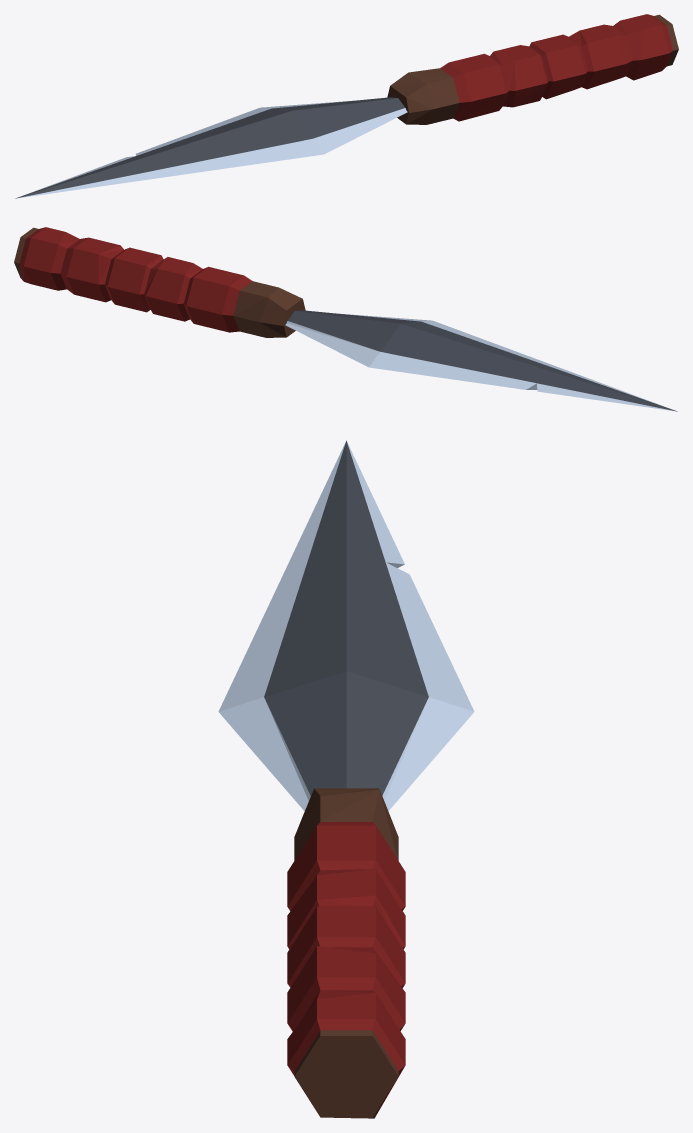
File: Kunai_1  Asia.fbx
3 views of the same model, one above another, from view 1: azimuth 30°, elevation 25°; view 2: azimuth 150°, elevation 25°; view 3: azimuth 270°, elevation 25° (orthographic). The views are drawn at different scales.
Parts seen in each view (by area): view 1: Kunai_1; view 2: Kunai_1; view 3: Kunai_1.
Part boxes in pixels (x1,y1,x2,y2): Kunai_1: (15,14,678,198); Kunai_1: (14,227,677,411); Kunai_1: (218,440,474,1118).
Size of the model in its own units: 0.3765 by 0.0275 by 0.0641.
